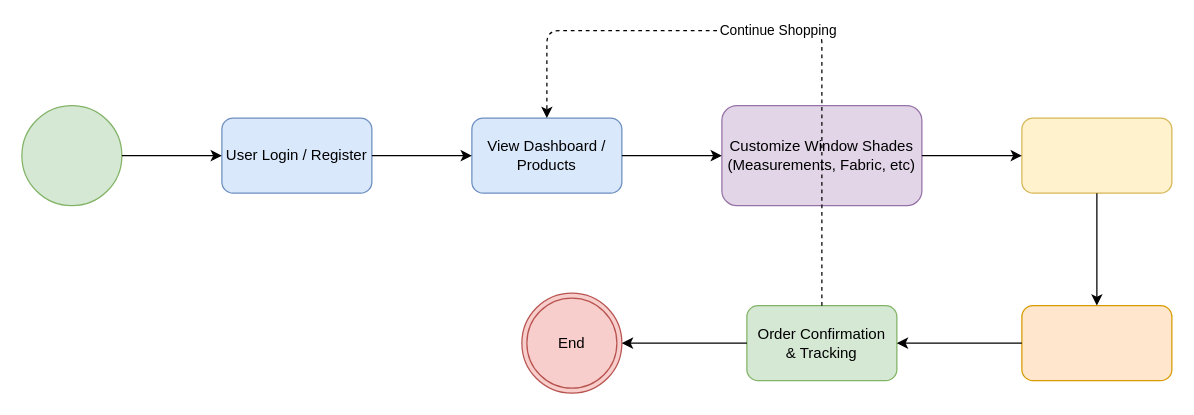
Some shapes in this 1194 by 415 pixel diagram are drawn without their labels. The shapes that lost their labels are listed below. From the top down, each one's centre as x and y in pixels, then its label:
point 71,155: Start
point 1096,155: Add to Cart
point 1096,342: Checkout & Payment
